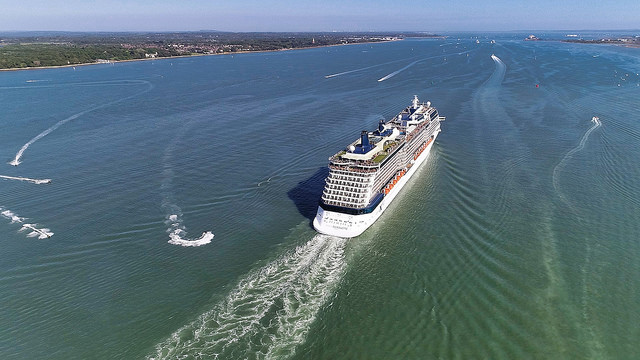cruise_ship: (314, 99, 446, 234)
